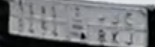4: (50, 6, 61, 37), (28, 3, 36, 35)
5: (39, 6, 48, 36)
9: (16, 2, 26, 34)
B: (96, 14, 108, 42)
J: (125, 12, 136, 45)
K: (110, 13, 122, 44)
